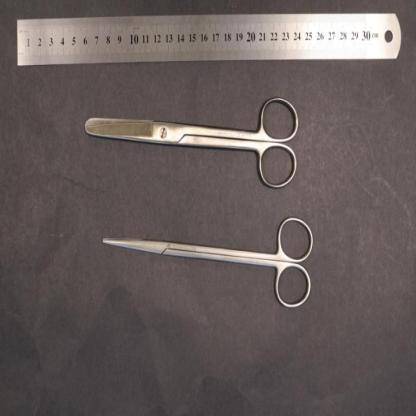7 Metzenbaum Scissors: (102, 213, 315, 311)
Dressing Scissors: (84, 94, 299, 193)
